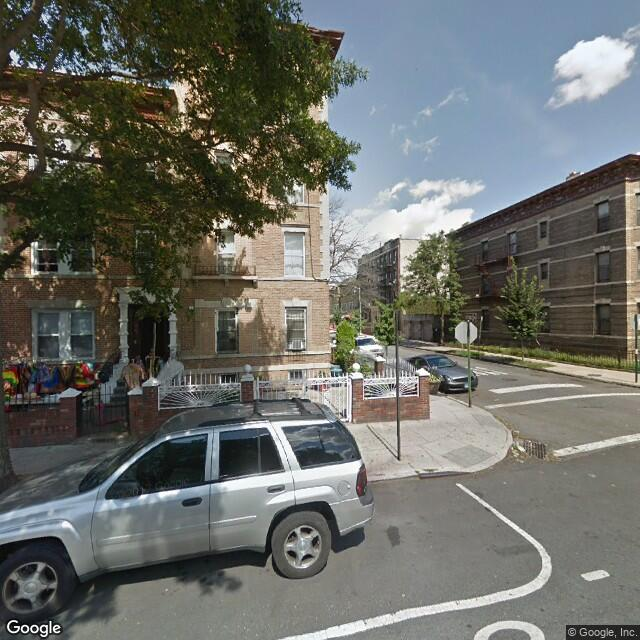litter: (397, 586, 409, 608), (491, 394, 510, 403), (163, 585, 173, 598), (588, 467, 597, 478), (500, 472, 509, 483), (609, 481, 616, 491), (123, 614, 128, 622), (136, 618, 140, 626)
